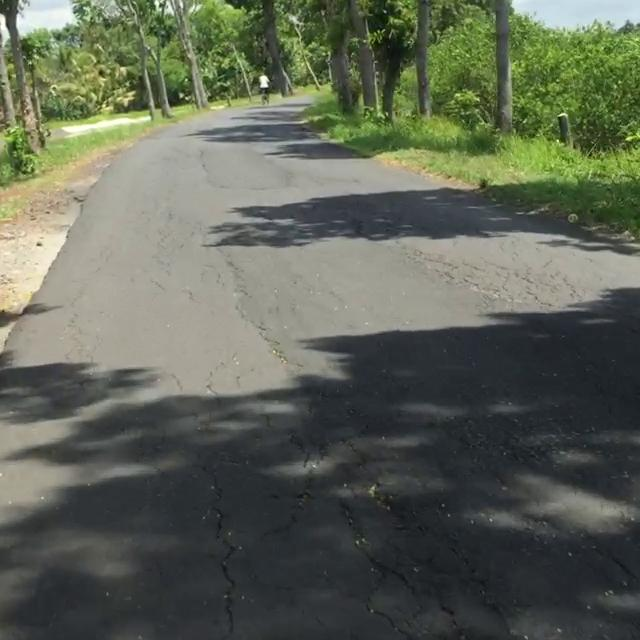retak_kulit_buaya: (421, 241, 573, 320)
